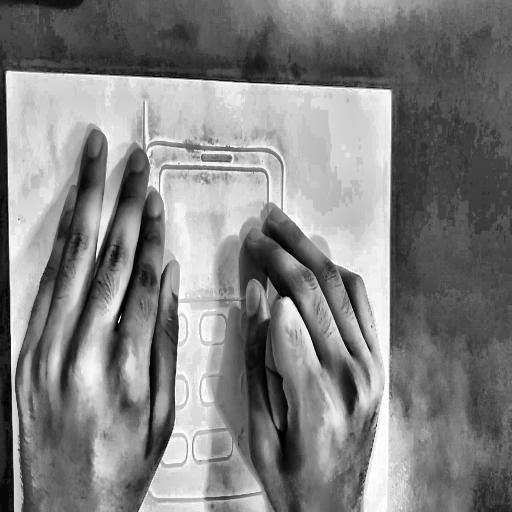mobile: (137, 95, 290, 508)
top_left: (2, 65, 11, 79)
top_right: (388, 84, 396, 97)
